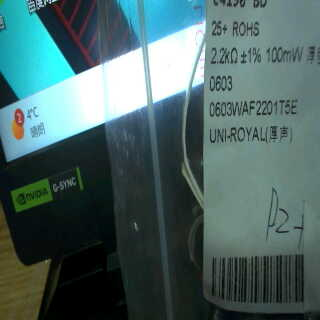2.2kR: (207, 44, 240, 68)
